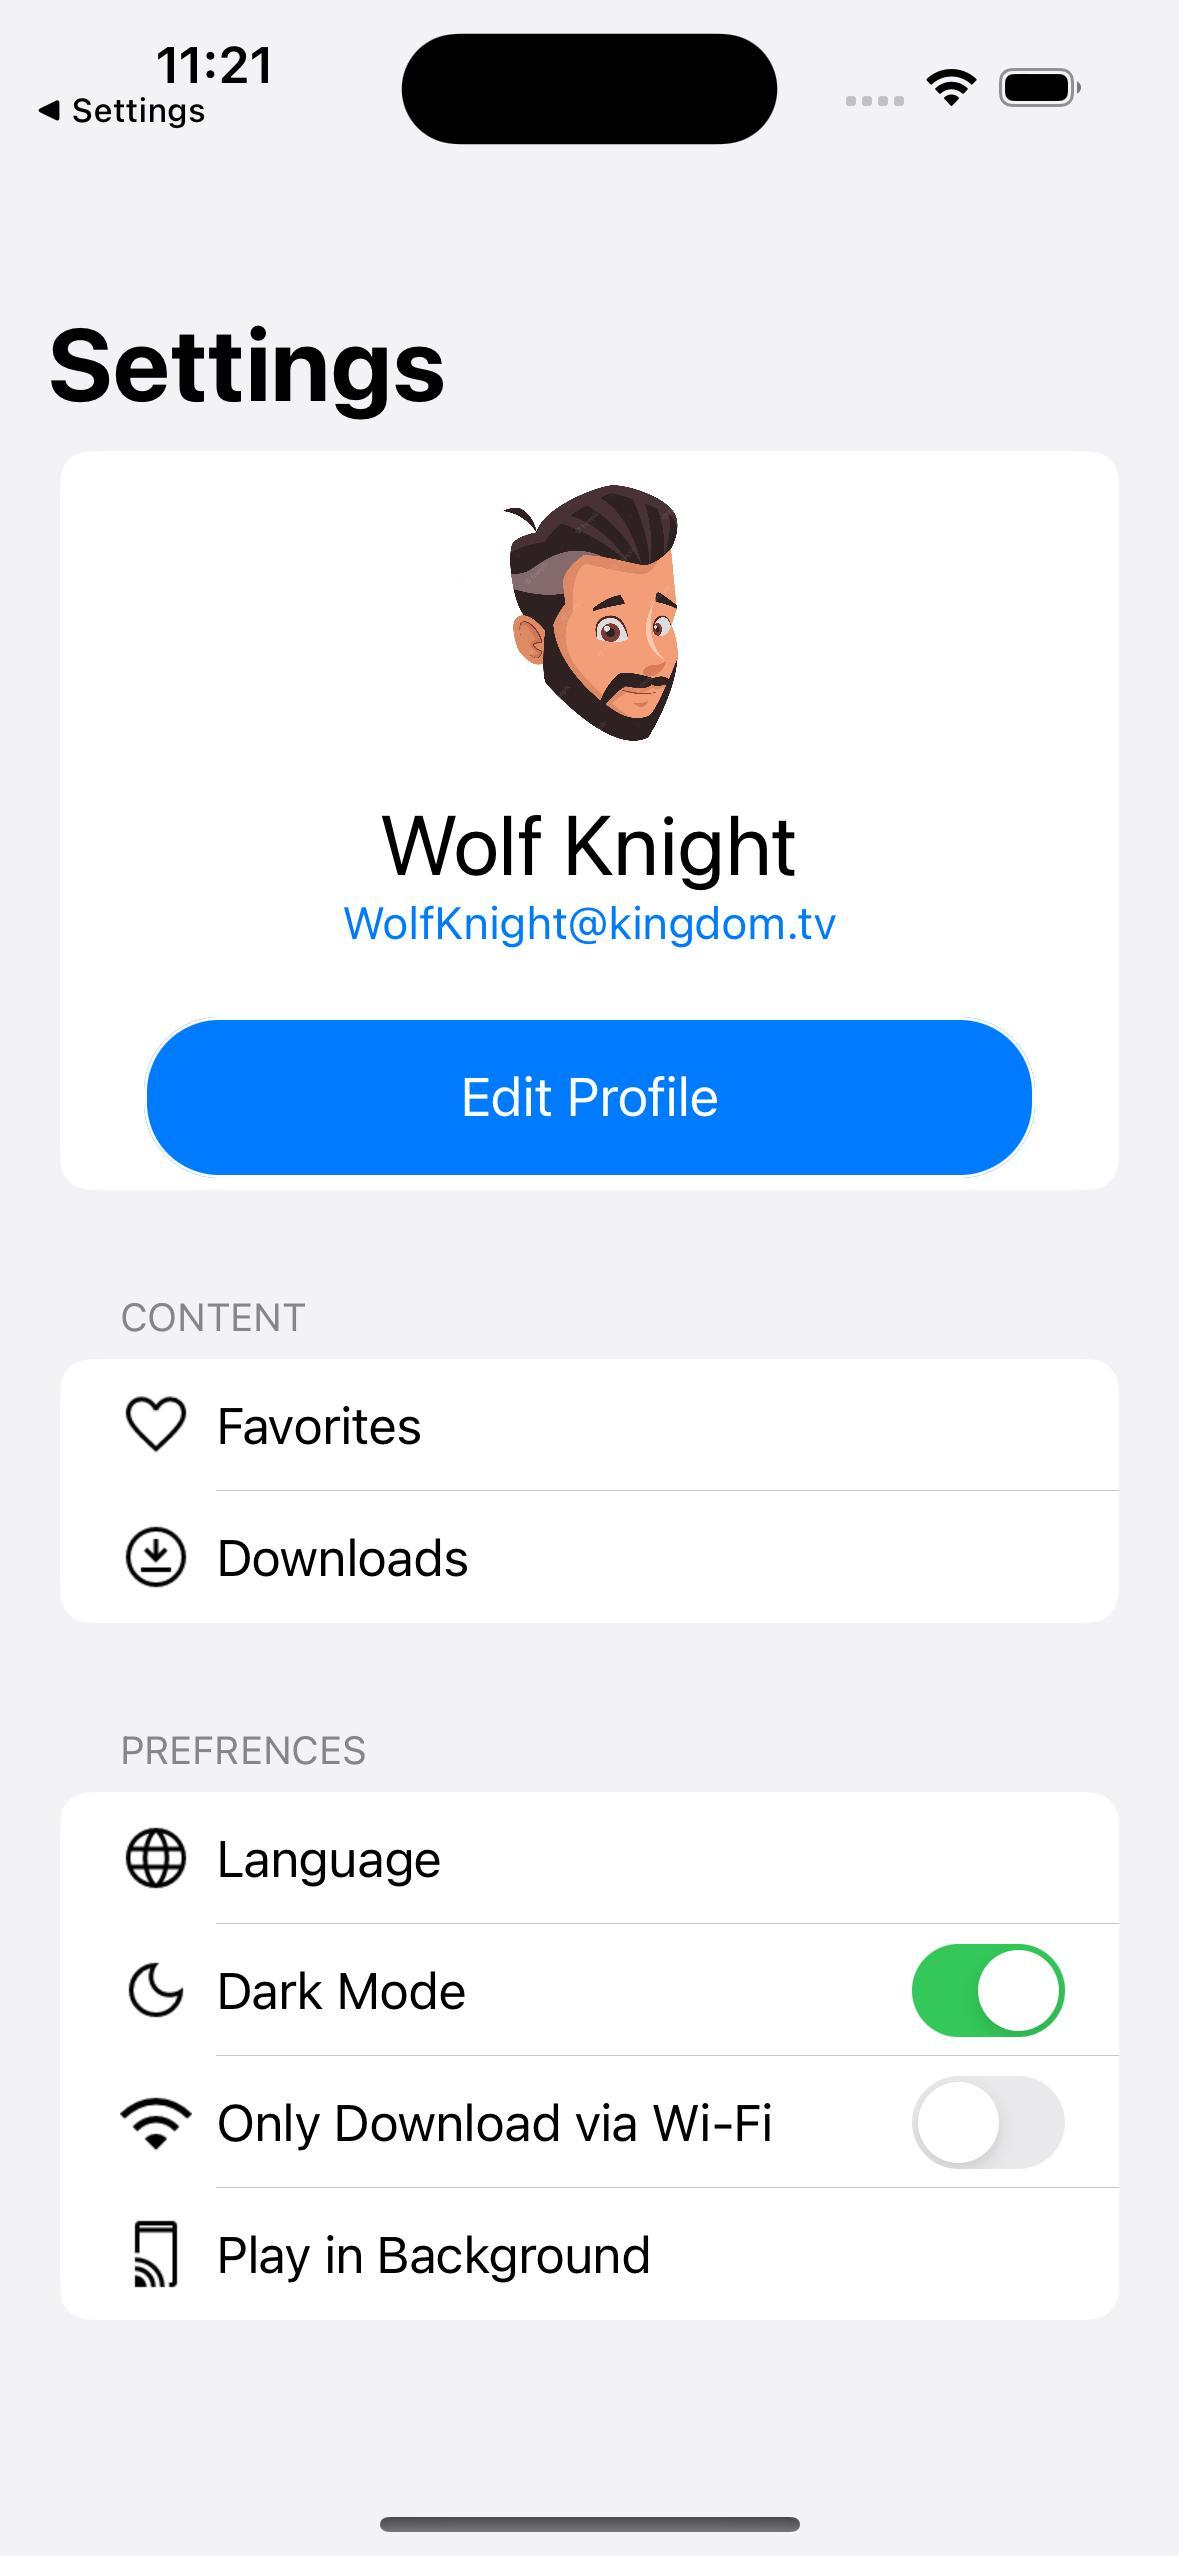button: (139, 1022, 1039, 1179)
icon: (117, 1813, 197, 1914), (117, 2070, 194, 2171), (114, 1518, 202, 1602), (121, 1386, 201, 1461), (124, 2202, 189, 2292), (127, 1945, 194, 2023)
label: (219, 2083, 804, 2171), (207, 2220, 687, 2307), (373, 812, 809, 897), (214, 1827, 470, 1914), (96, 1713, 383, 1790), (214, 1521, 473, 1601), (207, 1963, 479, 2029), (222, 1389, 432, 1469), (121, 1294, 320, 1342)
switch: (895, 2067, 1076, 2186), (913, 1941, 1068, 2046)
